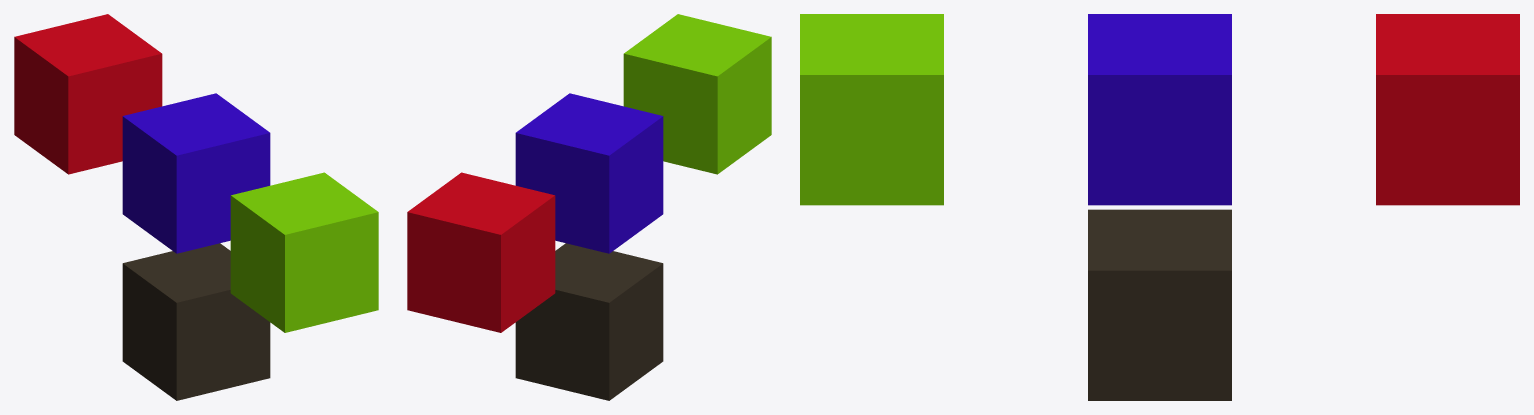
File: test_object_5_colors.fbx
3 views of the same model, side by side, from view 1: azimuth 30°, elevation 25°; view 2: azimuth 150°, elevation 25°; view 3: azimuth 270°, elevation 25° (orthographic). The views are drawn at different scales.
Visible parts, largest first — view 1: Cube.002, Cube.003, Cube.001, Cube; view 2: Cube.003, Cube.002, Cube.001, Cube; view 3: Cube.003, Cube.002, Cube.001, Cube.
Part boxes in pixels (bbox=[...]): Cube.002: bbox=[230, 172, 378, 332]; Cube.003: bbox=[14, 14, 162, 174]; Cube.001: bbox=[122, 93, 270, 253]; Cube: bbox=[122, 243, 270, 400]; Cube.003: bbox=[407, 172, 555, 332]; Cube.002: bbox=[623, 14, 771, 174]; Cube.001: bbox=[515, 93, 663, 253]; Cube: bbox=[515, 243, 663, 400]; Cube.003: bbox=[1376, 14, 1519, 205]; Cube.002: bbox=[800, 14, 943, 205]; Cube.001: bbox=[1088, 14, 1231, 205]; Cube: bbox=[1088, 209, 1231, 400].
Bounding box in the file's own units: 1000 × 200 × 500.
